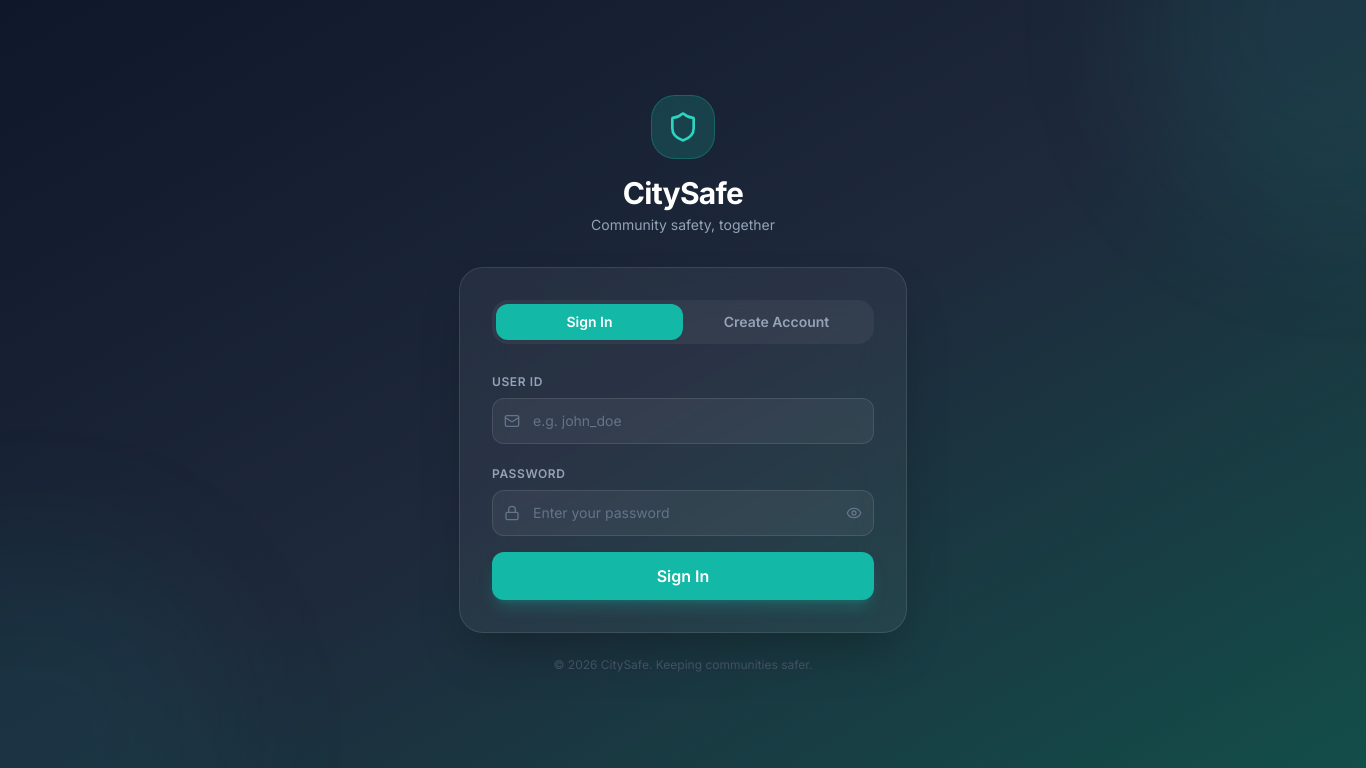
Test: AuthPage › blocks signup when the user has not agreed to the terms
Click the button "Create Account" at (776, 322), box x1=683 y1=304 x2=870 y2=340
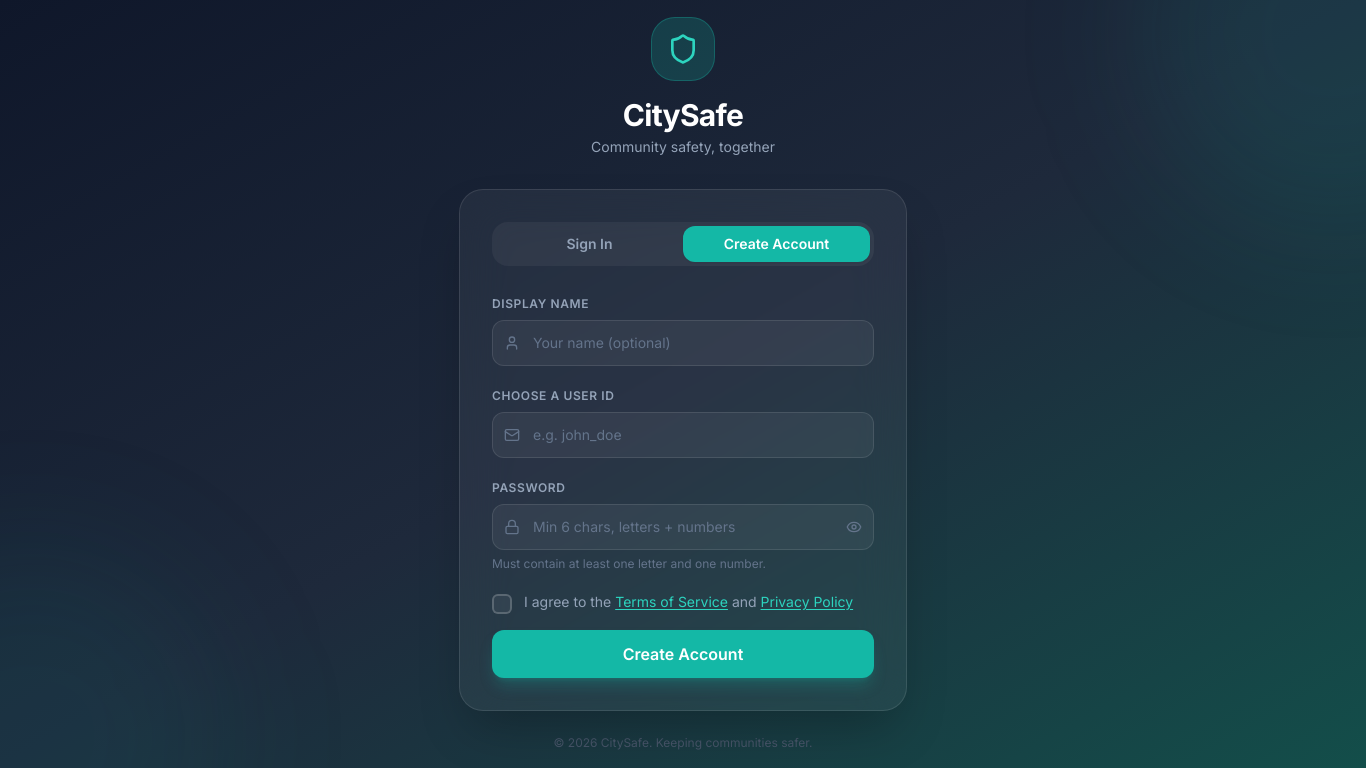
Type "student_user" into the field with placeholder "e.g. john_doe" at (683, 435), box x1=492 y1=412 x2=874 y2=458
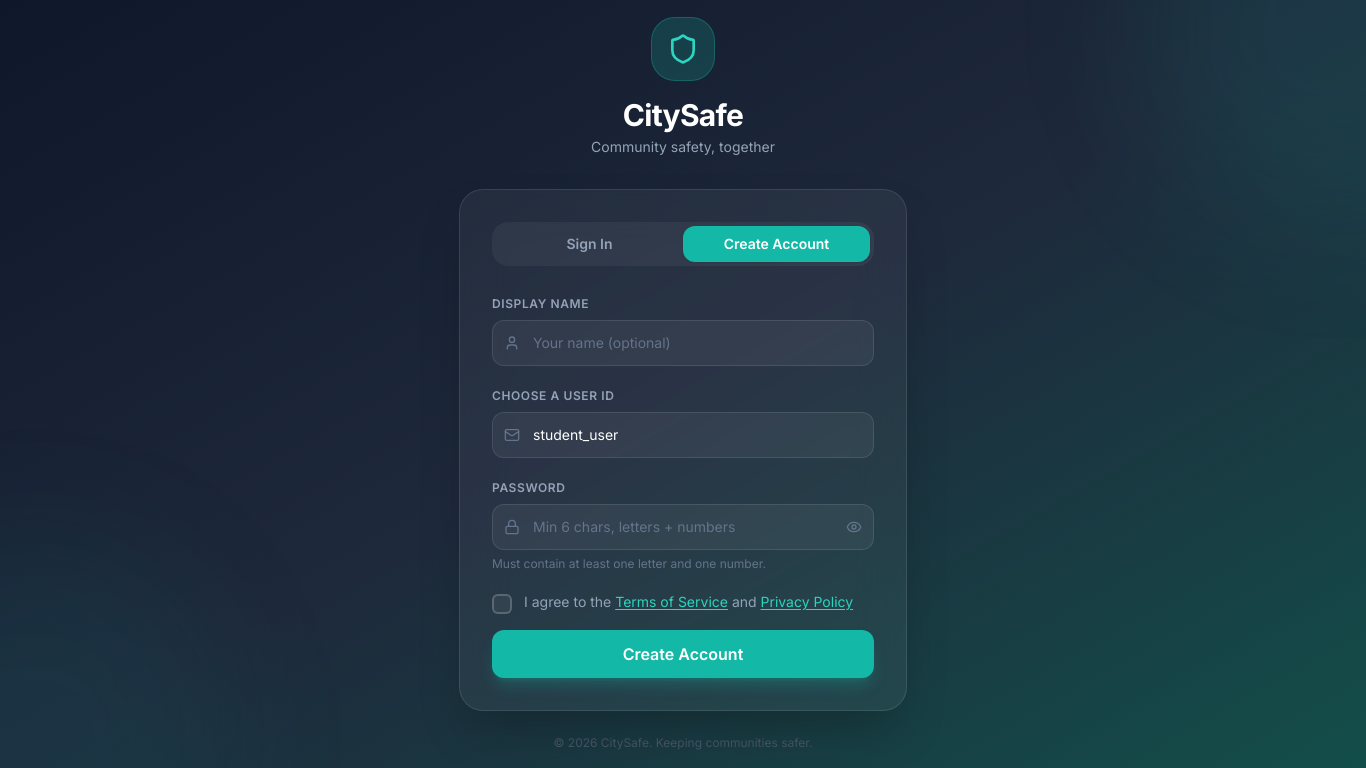
Type "Test123" into the password field with placeholder "Min 6 chars, letters + numbers" at (683, 527), box x1=492 y1=504 x2=874 y2=550
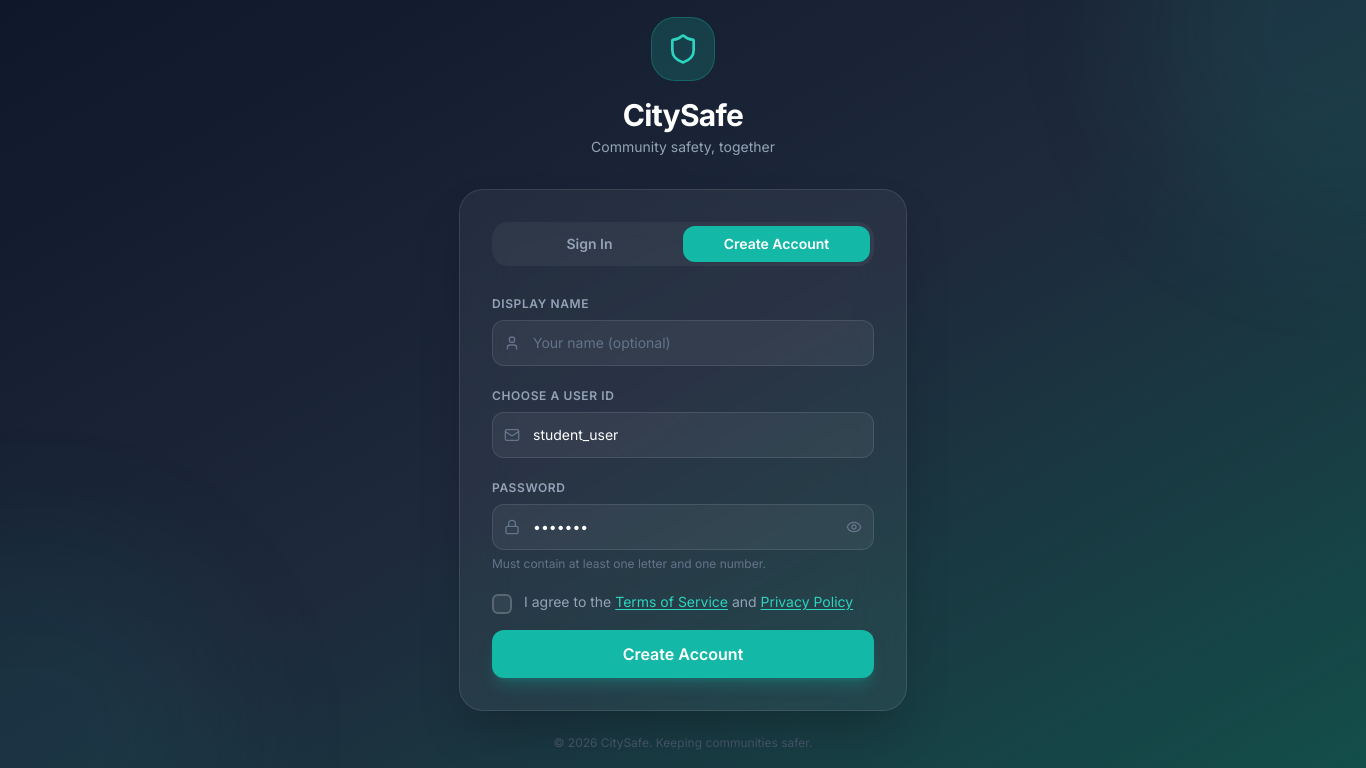
Click the button "Create Account" below "I agree to the" at (683, 654), box x1=492 y1=630 x2=874 y2=678
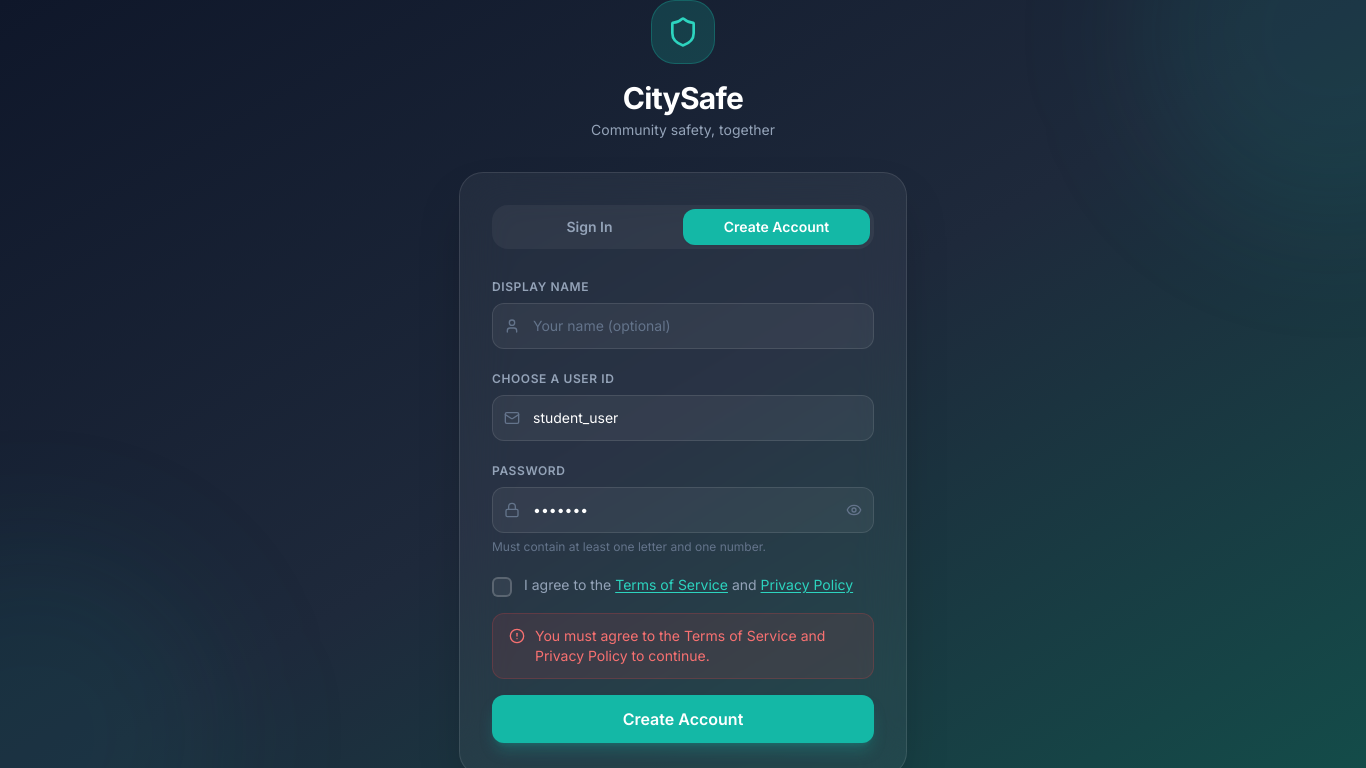
expect the text "You must agree to the Terms of Service" is shown: met, box x1=535 y1=627 x2=825 y2=664
